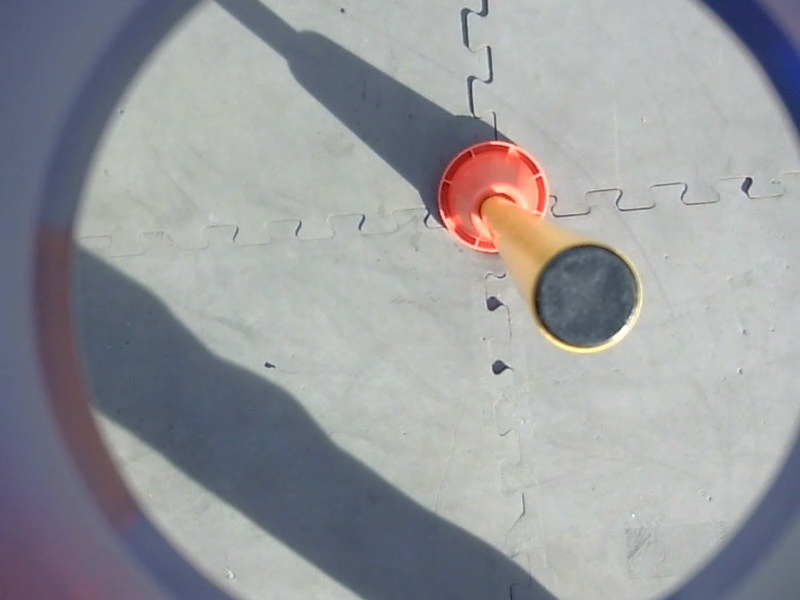tip: (523, 236, 648, 360)
